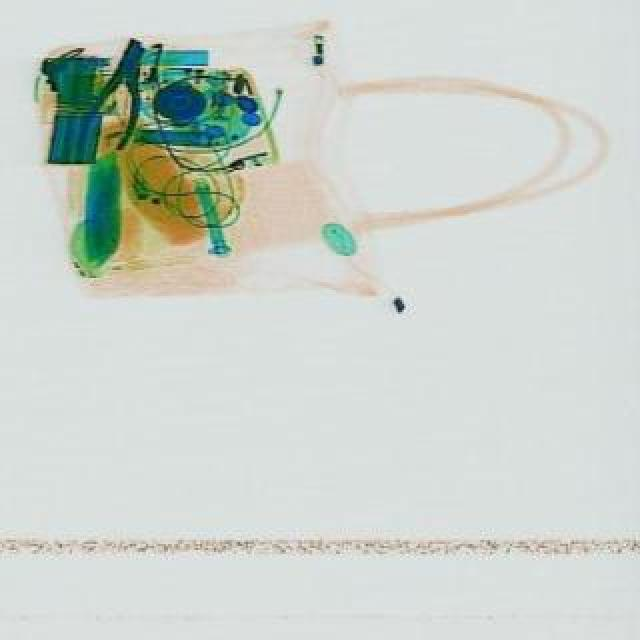wrench: (74, 34, 166, 166)
